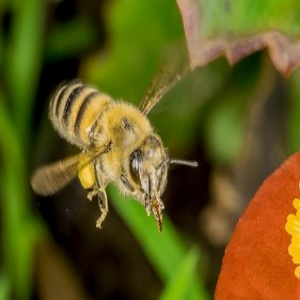bee: (28, 76, 197, 237)
